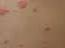plaque psoriasis: (17, 0, 29, 10), (0, 6, 8, 17)
